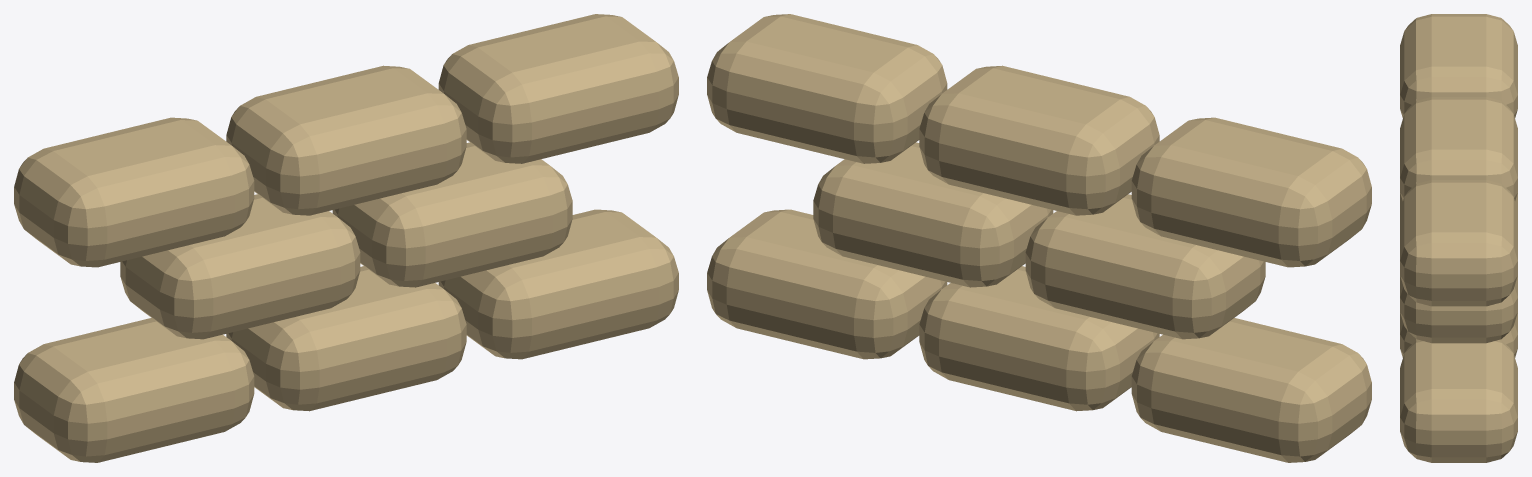
Rendered from sandbags.glb.
The picture shows the model from 3 angles, left to right: view 1: azimuth 30°, elevation 25°; view 2: azimuth 150°, elevation 25°; view 3: azimuth 270°, elevation 25°; orthographic projection. The views are drawn at different scales.
Parts seen in each view (by area): view 1: sandbags; view 2: sandbags; view 3: sandbags.
Boxes of the visible parts, x1,y1,x2,y2 form: sandbags: (14, 14, 678, 462); sandbags: (707, 14, 1371, 462); sandbags: (1400, 14, 1517, 462).
Size of the model in its own units: 1.46 by 0.64 by 0.3.
